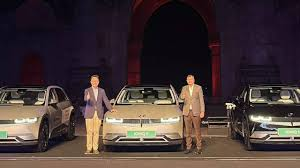Honda Ioniq: (103, 82, 184, 150)
